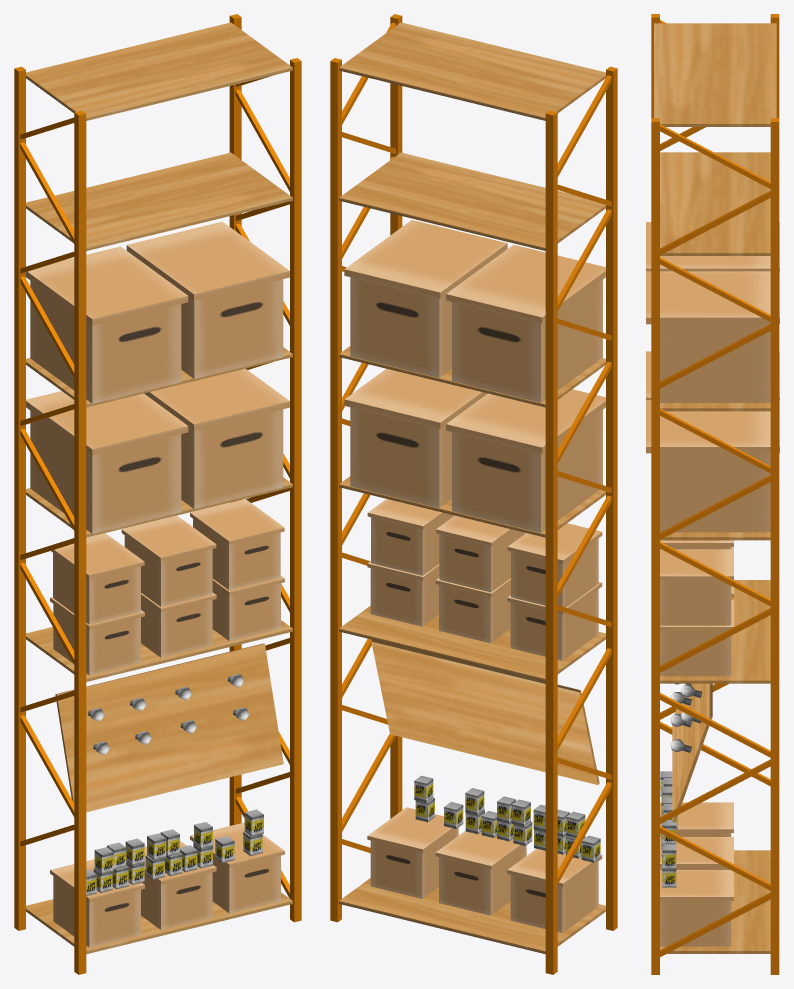
File: LightBulb2_Rack.fbx
3 renders of one model, left to right at view 1: azimuth 30°, elevation 25°; view 2: azimuth 150°, elevation 25°; view 3: azimuth 270°, elevation 25°, orthographic.
Visible parts, largest first — view 1: LightBulb_Rack1; view 2: LightBulb_Rack1; view 3: LightBulb_Rack1.
Boxes of the visible parts, left/top/right/bottom form: LightBulb_Rack1: left=14, top=14, right=301, bottom=974; LightBulb_Rack1: left=330, top=14, right=617, bottom=974; LightBulb_Rack1: left=646, top=14, right=779, bottom=974.
Size of the model in its own units: 2 by 7.37 by 1.05.
